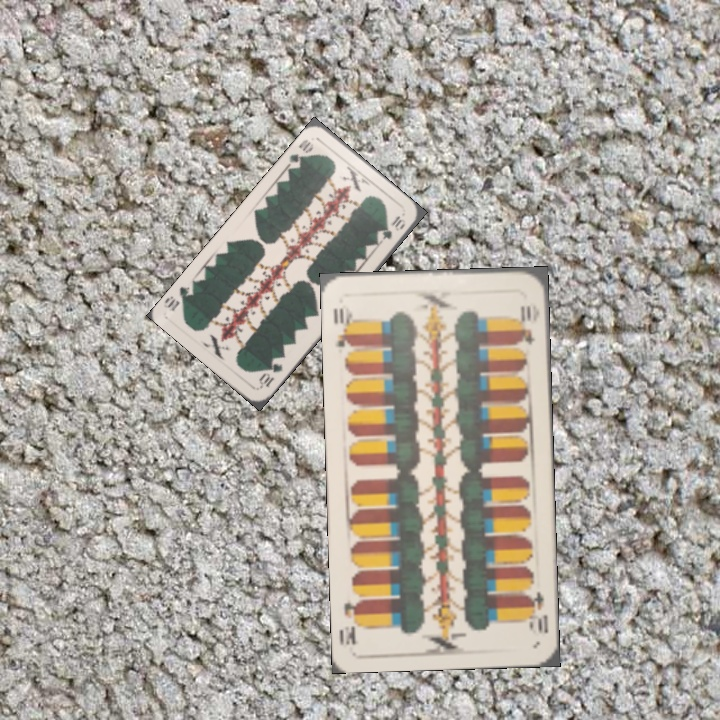E10: (522, 587, 551, 636), (329, 300, 356, 350)
G10: (284, 135, 316, 168), (255, 359, 286, 391)
